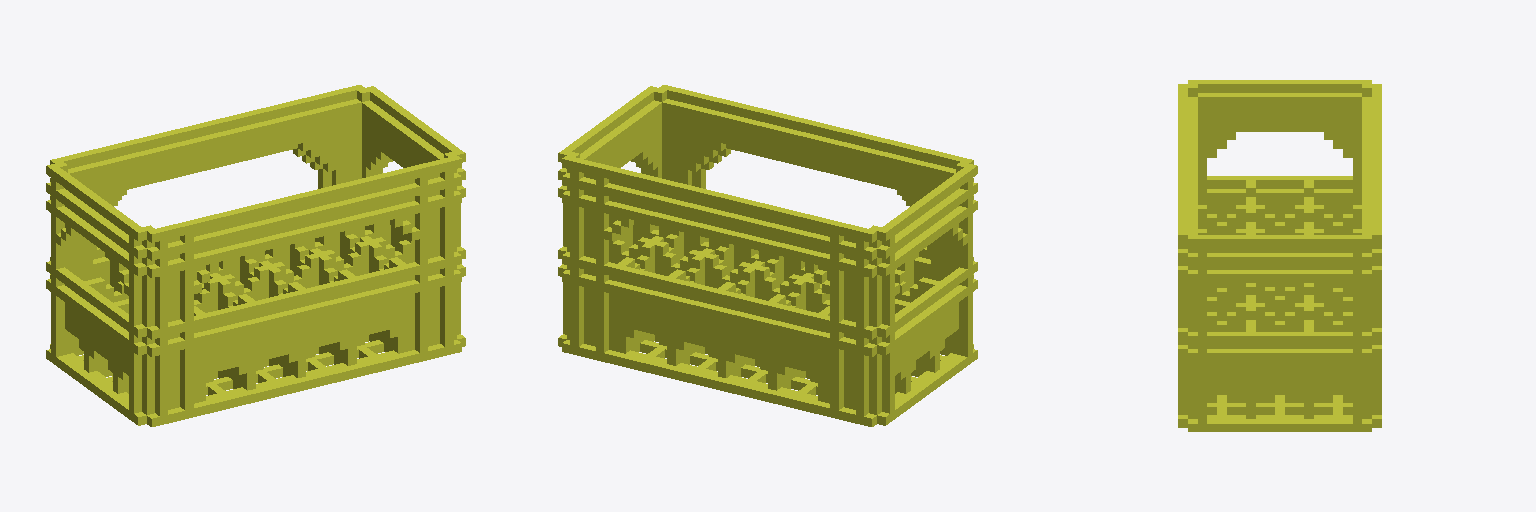
3 renders of one model, left to right at view 1: azimuth 30°, elevation 25°; view 2: azimuth 150°, elevation 25°; view 3: azimuth 270°, elevation 25°, orthographic.
Parts seen in each view (by area): view 1: object 1; view 2: object 1; view 3: object 1.
Part boxes in pixels (x1,y1,x2,y2): object 1: (46,85,465,426); object 1: (558,85,977,426); object 1: (1178,80,1381,431).
Size of the model in its own units: 3.9 by 2.2 by 2.1.
Materials: 1 (1 with a texture image).